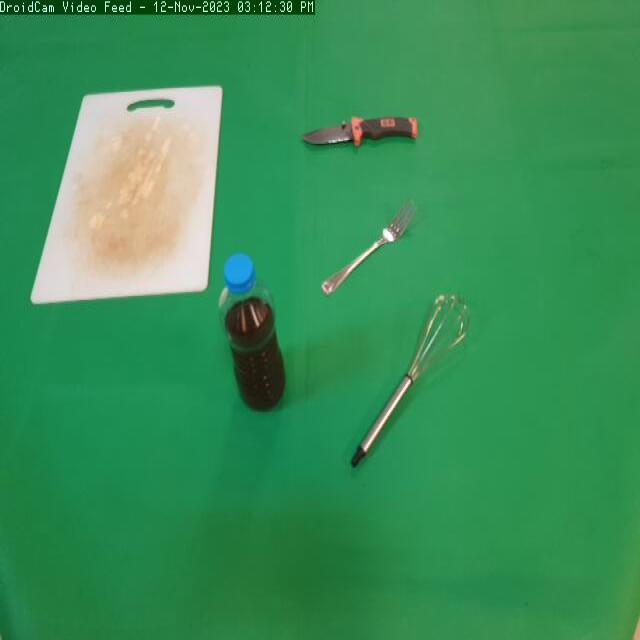cutting board: (30, 72, 238, 326)
fork: (315, 189, 419, 301)
fullbottle: (215, 246, 295, 422)
knife: (295, 102, 426, 161)
whisk: (349, 288, 488, 479)
